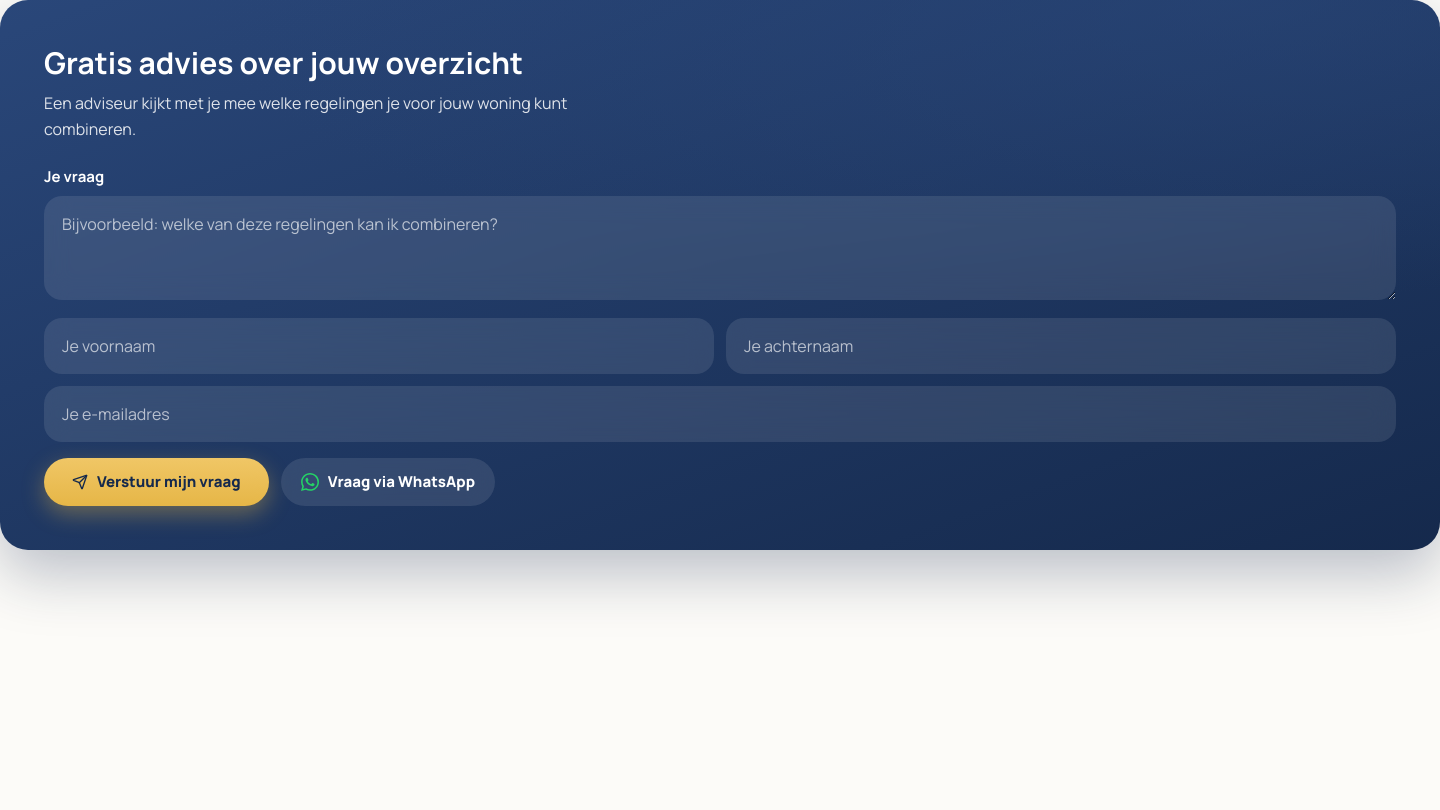
Test: e-mailcontrole in de subsidiecheck › vraagblok: suggestie onder het e-mailveld voor wie niet door de poort kwam
This screenshot has width=1440, height=810.
Type "jan@hotmial.com" into the field with placeholder "Je e-mailadres" at (720, 414), box [44,386,1396,442]
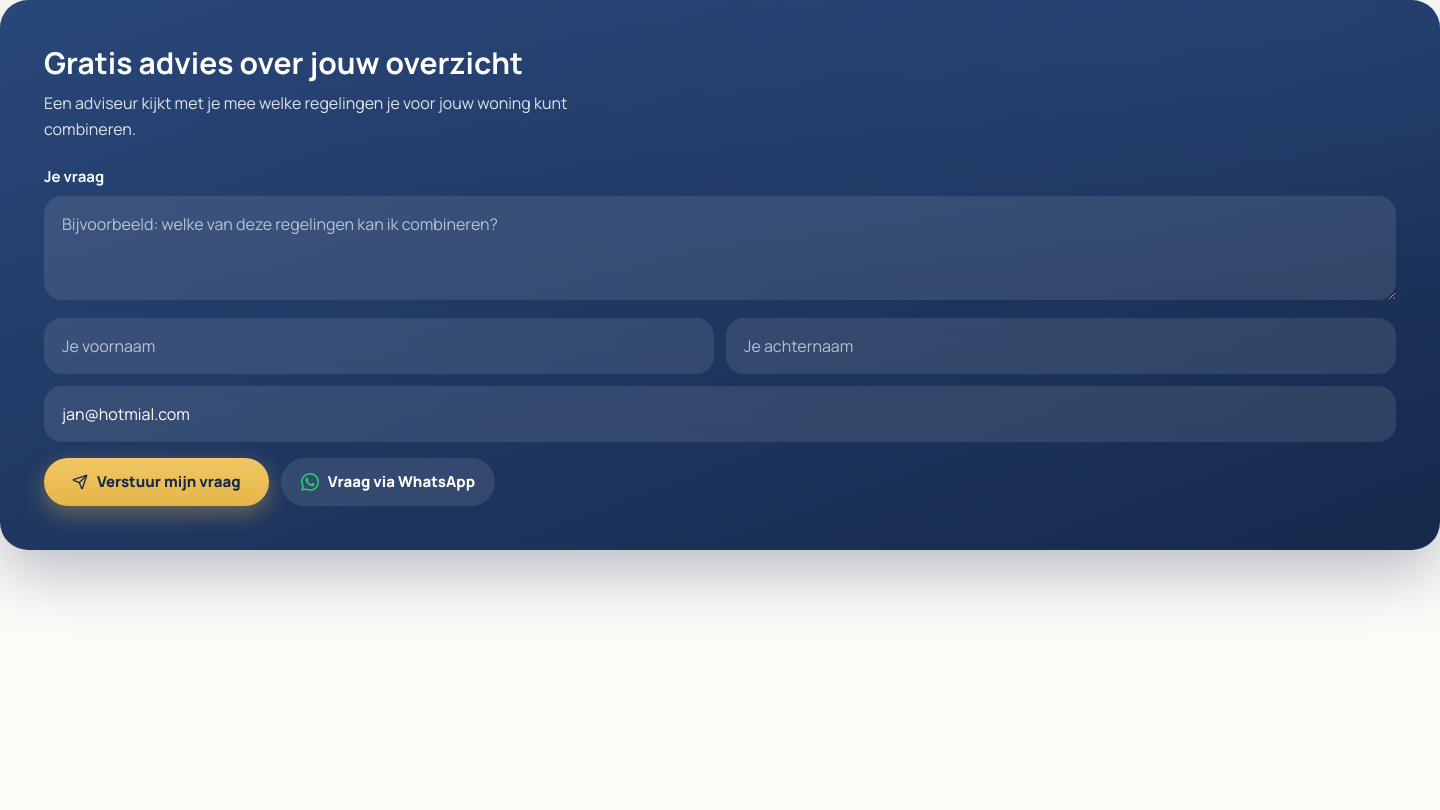
Leave the field with placeholder "Je e-mailadres", box [44,386,1396,442]
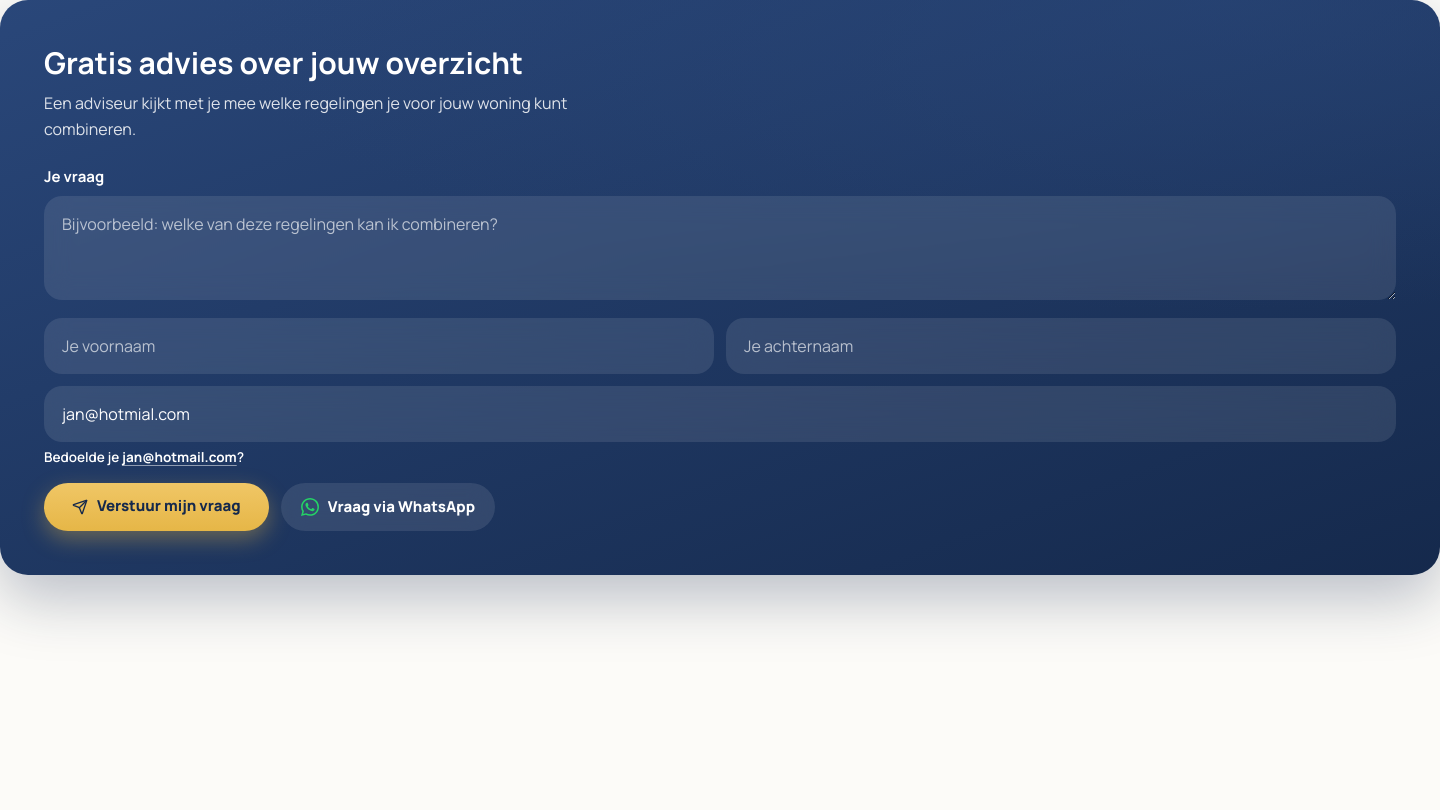
Result: the button with aria-label "Gebruik jan@hotmail.com" is shown at [122,442,237,473]
